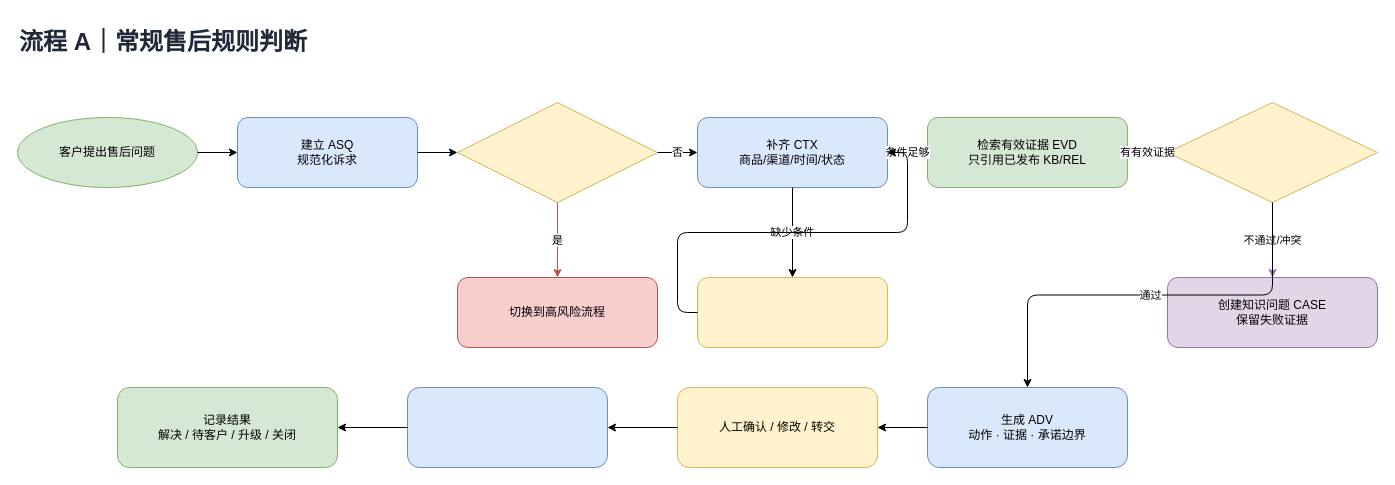
This 1395x485 diagram has some shape labels left out. Each missing label, with the centre of its shape:
"发送建议或转交售后" goes at point (507, 427).
"向客户追问 记录缺失字段" goes at point (792, 312).
"是否发现 R2/R3 风险？" goes at point (557, 152).
"条件、证据与冲突均通过？" goes at point (1272, 152).
